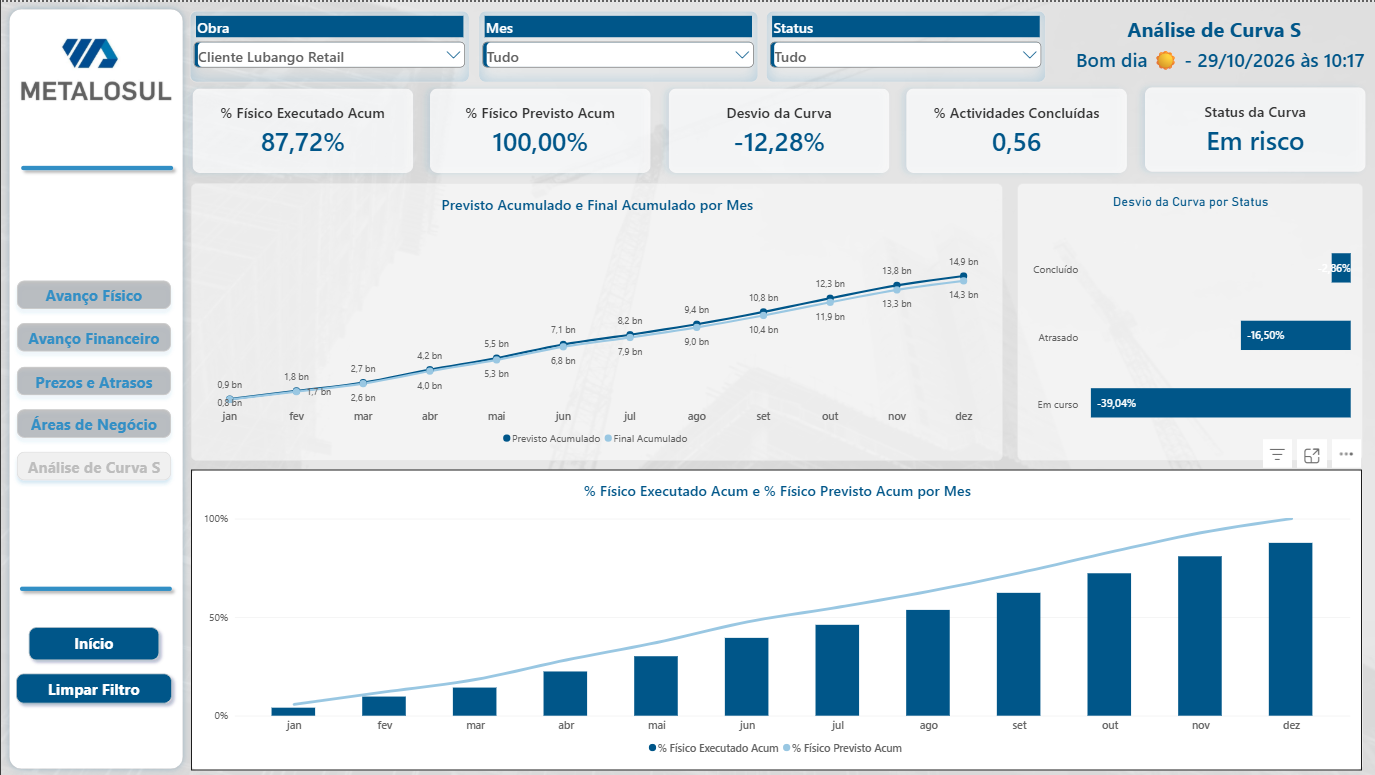

The page's visual inventory and layout, read from the dashboard file:
{"tool":"powerbi","page":{"name":"Análise de Curva S","canvas":[1920,1080],"ordinal":4},"visuals":[{"type":"shape","box":[2,0,262,1080],"z":0},{"type":"cardVisual","fields":{"Data":["Fact_Producao.Saudação"]},"box":[1473.7,59.2,439.6,51.9],"z":0},{"type":"shape","box":[1484.5,15,417.4,43.3],"z":1000},{"type":"image","box":[24.6,37.7,216.2,102.3],"z":1000},{"type":"lineChart","fields":{"Category":["Dim_Datas.Mes"],"Y":["Fact_Producao.Previsto Acumulado","Fact_Producao.Final Acumulado"]},"box":[265,252.5,1132.5,387.5],"z":2000},{"type":"actionButton","box":[12.4,378,235,60],"z":2000},{"type":"shape","box":[18.3,186.7,230,90],"z":3000},{"type":"barChart","fields":{"Category":["Fact_Producao.Status"],"Y":["Fact_Producao.Desvio da Curva"]},"box":[1417.5,252.5,482.5,387.5],"z":3000},{"type":"actionButton","box":[12.4,438,235,60],"z":4000},{"type":"actionButton","box":[12,498,235,60],"z":5000},{"type":"actionButton","box":[12.4,558,235,60],"z":6000},{"type":"actionButton","box":[12.4,618,235,60],"z":7000},{"type":"shape","box":[17.7,774.6,230,88.8],"z":8000},{"type":"actionButton","box":[29.9,864,200,64],"z":9000},{"type":"actionButton","box":[12.4,928,235,60],"z":10000},{"type":"cardVisual","fields":{"Data":["Fact_Producao.% Físico Executado Acum"]},"box":[251.2,104,340,150],"z":11000},{"type":"cardVisual","fields":{"Data":["Fact_Producao.% Actividades Concluídas"]},"box":[1247.8,104,340,150],"z":12000},{"type":"cardVisual","fields":{"Data":["Fact_Producao.% Físico Previsto Acum"]},"box":[583.4,104,340,150],"z":13000},{"type":"cardVisual","fields":{"Data":["Fact_Producao.Desvio da Curva"]},"box":[915.6,104,340,150],"z":14000},{"type":"cardVisual","fields":{"Data":["Fact_Producao.Status da Curva"]},"box":[1580,103.3,340,150],"z":15000},{"type":"slicer","fields":{"Values":["Dim_Obras.Nome_Obra"]},"box":[264,12,390,100],"z":16000},{"type":"slicer","fields":{"Values":["Dim_Datas.Mes"]},"box":[665.5,12,390,100],"z":17000},{"type":"slicer","fields":{"Values":["Fact_Producao.Status"]},"box":[1068,12,390,100],"z":18000},{"type":"lineStackedColumnComboChart","fields":{"Category":["Dim_Datas.Mes"],"Y":["Fact_Producao.% Físico Executado Acum"],"Y2":["Fact_Producao.% Físico Previsto Acum"]},"box":[265,652.5,1635,420],"z":20000}]}

Visuals, with their boxes in screenshot pixels (x1, y1, x2, y2), scaled from the page's 1920x1080 canvas onto the 1375x775 screenshot:
shape: crop(1, 0, 189, 774)
cardVisual - Fact_Producao.Saudação: crop(1055, 42, 1370, 80)
shape: crop(1063, 11, 1362, 42)
image: crop(18, 27, 172, 100)
lineChart - Dim_Datas.Mes x Fact_Producao.Previsto Acumulado: crop(190, 181, 1001, 459)
actionButton: crop(9, 271, 177, 314)
shape: crop(13, 134, 178, 199)
barChart - Fact_Producao.Status x Fact_Producao.Desvio da Curva: crop(1015, 181, 1361, 459)
actionButton: crop(9, 314, 177, 357)
actionButton: crop(9, 357, 177, 400)
actionButton: crop(9, 400, 177, 443)
actionButton: crop(9, 443, 177, 487)
shape: crop(13, 556, 177, 620)
actionButton: crop(21, 620, 165, 666)
actionButton: crop(9, 666, 177, 709)
cardVisual - Fact_Producao.% Físico Executado Acum: crop(180, 75, 423, 182)
cardVisual - Fact_Producao.% Actividades Concluídas: crop(894, 75, 1137, 182)
cardVisual - Fact_Producao.% Físico Previsto Acum: crop(418, 75, 661, 182)
cardVisual - Fact_Producao.Desvio da Curva: crop(656, 75, 899, 182)
cardVisual - Fact_Producao.Status da Curva: crop(1132, 74, 1374, 182)
slicer - Dim_Obras.Nome_Obra: crop(189, 9, 468, 80)
slicer - Dim_Datas.Mes: crop(477, 9, 756, 80)
slicer - Fact_Producao.Status: crop(765, 9, 1044, 80)
lineStackedColumnComboChart - Dim_Datas.Mes x Fact_Producao.% Físico Executado Acum: crop(190, 468, 1361, 770)
